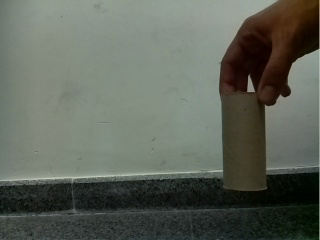rollo papel: (220, 92, 268, 190)
